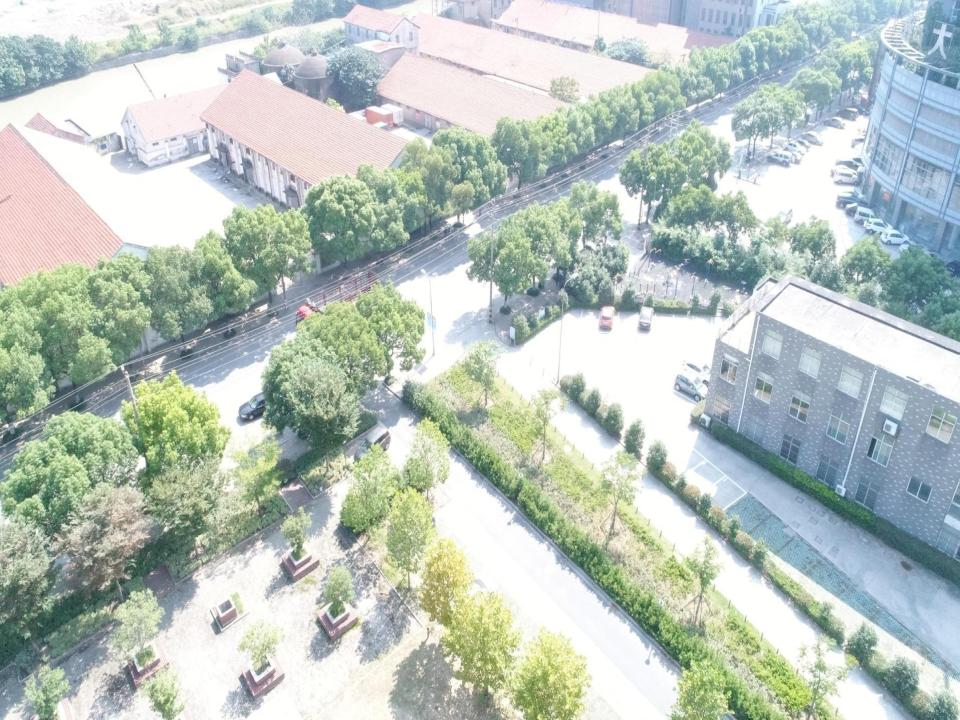car: (238, 390, 278, 422), (674, 370, 710, 402), (682, 360, 710, 390), (836, 192, 868, 212), (863, 218, 893, 236), (880, 230, 910, 246), (836, 158, 863, 175), (600, 304, 616, 330), (767, 150, 793, 166), (833, 168, 859, 184), (846, 201, 872, 216), (638, 306, 654, 330), (830, 164, 857, 178), (943, 259, 959, 280), (801, 132, 823, 147), (900, 242, 925, 255), (783, 142, 806, 156), (823, 116, 846, 129), (841, 189, 864, 202), (837, 108, 858, 120), (783, 150, 802, 163), (792, 139, 811, 151), (852, 102, 870, 114)
truck: (292, 271, 388, 341)
van: (854, 206, 882, 225)
